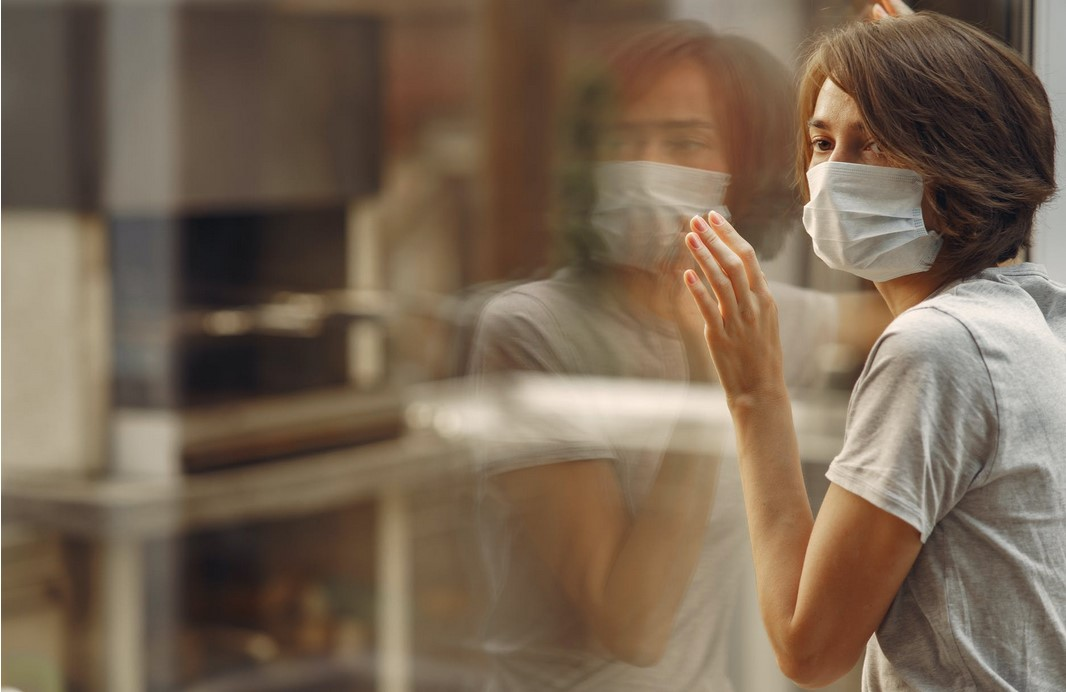face_with_mask: (795, 18, 1026, 281)
